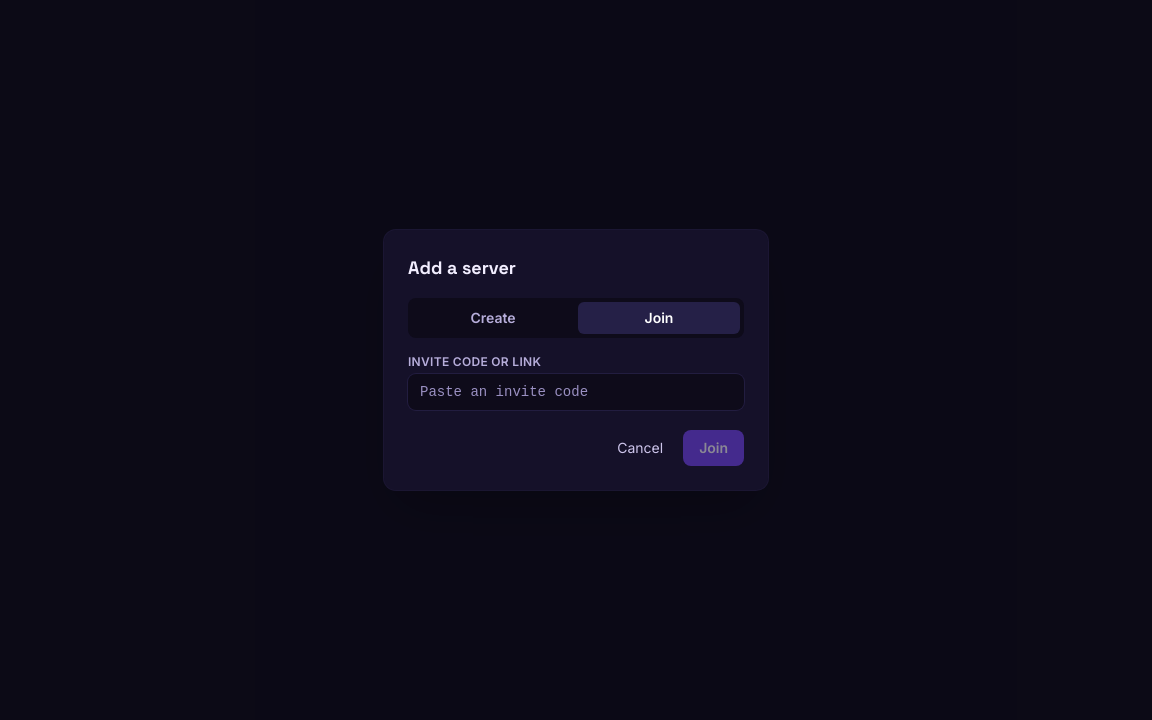
Test: Join: says when you are already a member
Step 1. Type "mine99" into the field labelled "Invite code or link" → coordinates (576, 392), box [408,374,744,410]
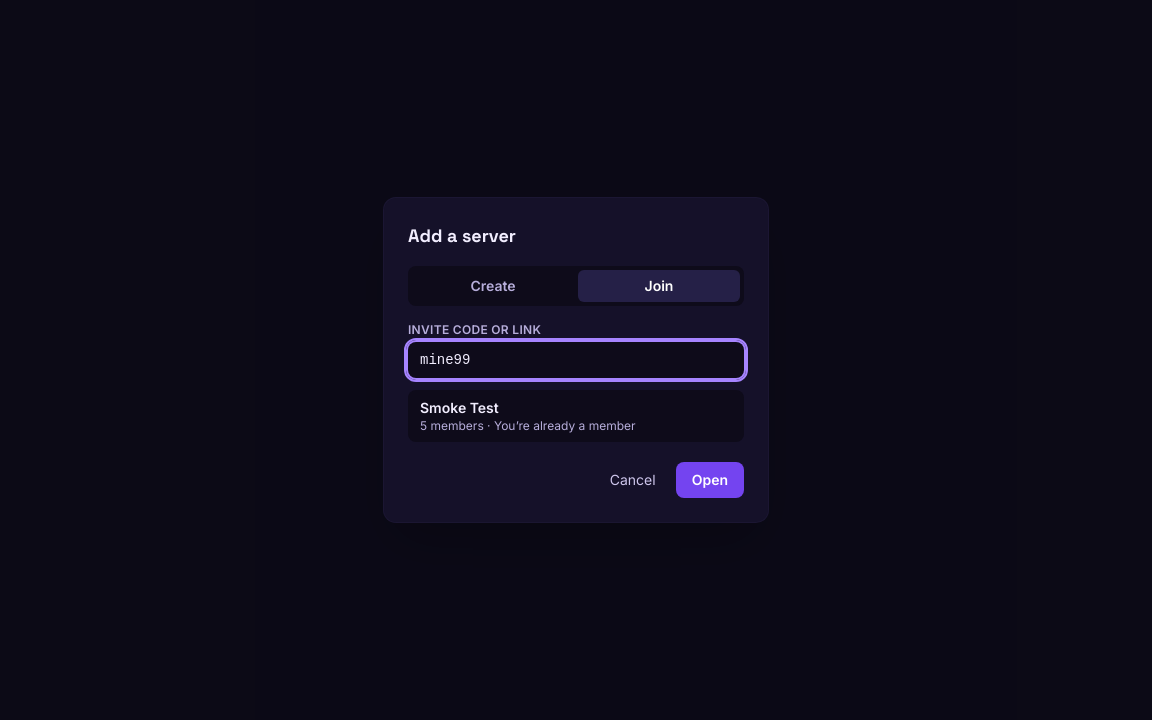
Expected: the text "5 members · You’re already a member" is shown, [420,418,636,433]
